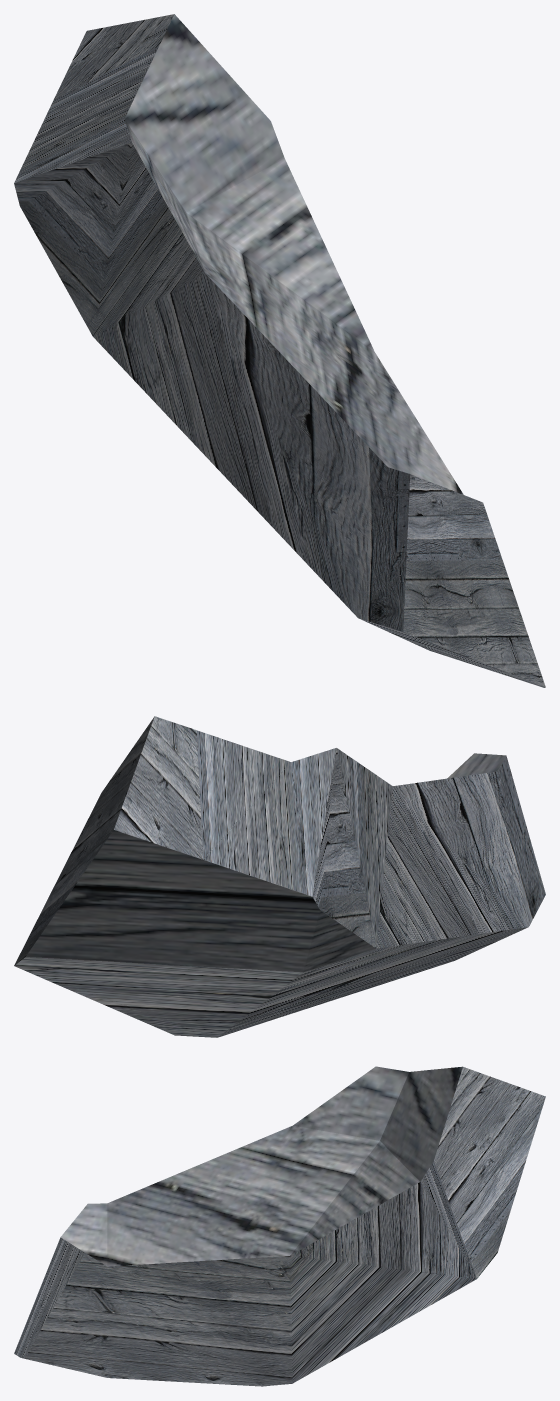
Rendered from Fracture009.dae.
3 renders of one model, top to bottom at view 1: azimuth 30°, elevation 25°; view 2: azimuth 150°, elevation 25°; view 3: azimuth 270°, elevation 25°, orthographic. The views are drawn at different scales.
Parts seen in each view (by area): view 1: Sphere_001_cell_048; view 2: Sphere_001_cell_048; view 3: Sphere_001_cell_048.
Boxes of the visible parts, left/top/right/bottom form: Sphere_001_cell_048: left=14, top=14, right=545, bottom=687; Sphere_001_cell_048: left=14, top=716, right=545, bottom=1037; Sphere_001_cell_048: left=14, top=1066, right=545, bottom=1386.
Size of the model in its own units: 0.3904 by 0.9758 by 0.5914.
